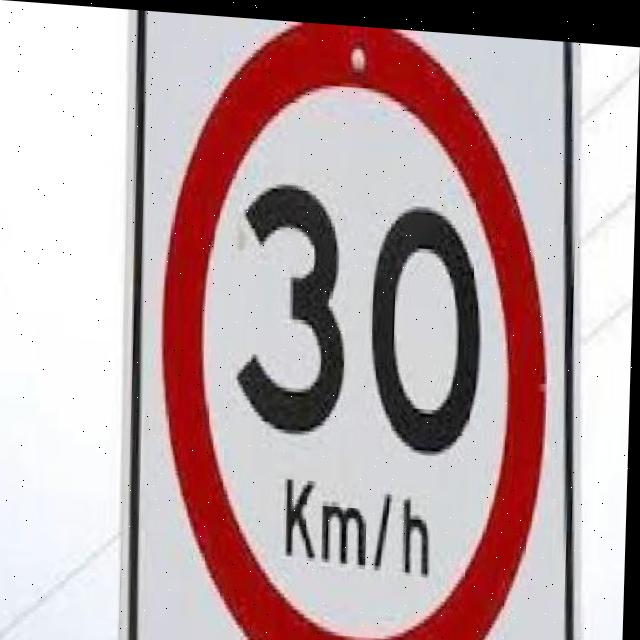Speed limit 30: (146, 10, 572, 640)
